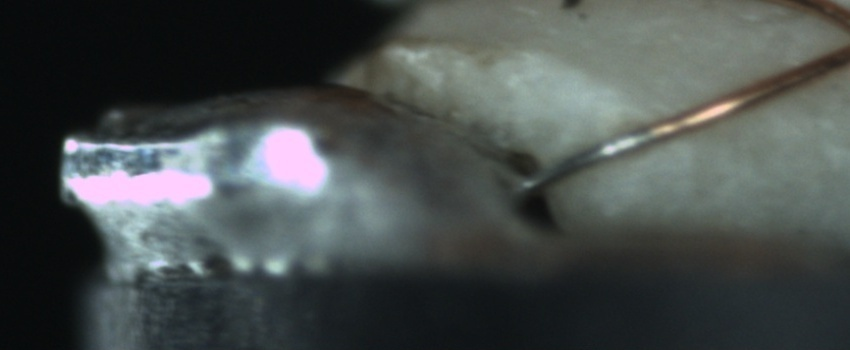TS: (519, 125, 653, 192)
